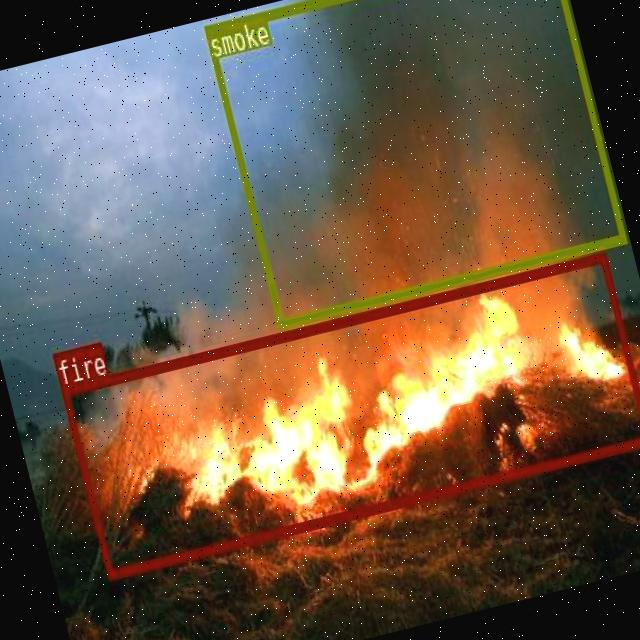fire: (59, 250, 640, 578)
smoke: (203, 0, 626, 326)
